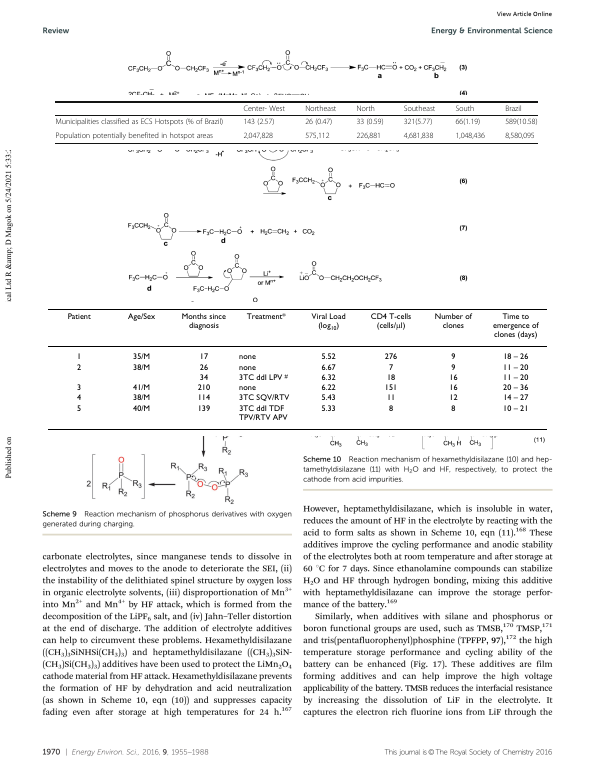borderless: (47, 307, 547, 429), (55, 100, 538, 143)
cell: (55, 117, 224, 127), (55, 131, 214, 141), (491, 311, 539, 340), (238, 403, 288, 422), (369, 310, 412, 332), (180, 311, 226, 330), (310, 311, 346, 332), (433, 311, 472, 330), (238, 393, 290, 403), (238, 372, 288, 382), (245, 311, 286, 321), (242, 104, 286, 113), (504, 117, 538, 127), (242, 117, 275, 127), (242, 131, 274, 141), (454, 131, 486, 141), (504, 131, 536, 141), (403, 131, 434, 141), (403, 117, 433, 127), (126, 311, 156, 321), (304, 104, 337, 113), (403, 104, 436, 113), (304, 117, 333, 127), (355, 117, 384, 127), (454, 117, 481, 127), (355, 131, 382, 141), (502, 352, 529, 362), (502, 362, 529, 372), (502, 383, 529, 393), (502, 393, 529, 403), (502, 403, 529, 413), (304, 131, 330, 141), (66, 311, 91, 321), (502, 373, 529, 382), (132, 352, 151, 362), (132, 362, 151, 372), (132, 383, 151, 393), (132, 393, 151, 403), (132, 403, 151, 413), (355, 104, 376, 113), (454, 104, 475, 113), (238, 352, 256, 362), (238, 362, 256, 372), (238, 383, 256, 393), (504, 104, 523, 113), (320, 352, 336, 362), (320, 362, 336, 372), (320, 383, 336, 393), (320, 393, 336, 403), (320, 403, 336, 413), (383, 352, 398, 362), (196, 383, 211, 393), (383, 383, 398, 393), (196, 393, 211, 403), (196, 403, 211, 413), (320, 373, 336, 382), (198, 352, 209, 362), (198, 362, 209, 372), (385, 393, 396, 403), (448, 383, 458, 393), (448, 393, 458, 403), (198, 373, 209, 382), (385, 373, 396, 382), (448, 373, 458, 382), (387, 362, 394, 372), (387, 403, 394, 413), (76, 352, 82, 362), (450, 352, 456, 362), (76, 362, 82, 372), (450, 362, 456, 372), (76, 383, 82, 393), (76, 393, 82, 403), (76, 403, 82, 413), (450, 403, 456, 413)
